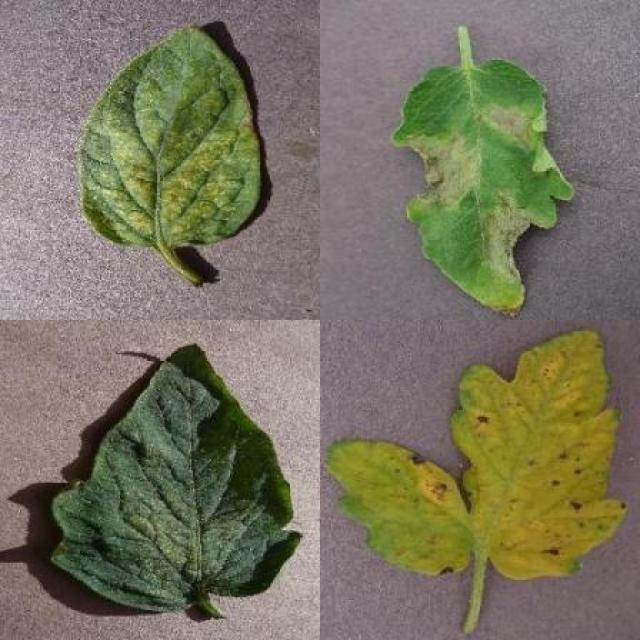Late Blight: (392, 60, 575, 320)
Septoria: (327, 327, 629, 583)
Spider Mites: (48, 342, 303, 615), (77, 25, 263, 248)
